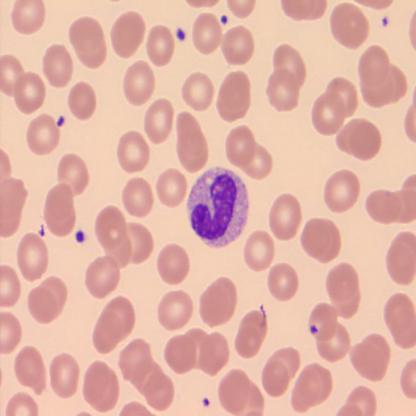Band Neutrophil: (185, 164, 252, 253)
